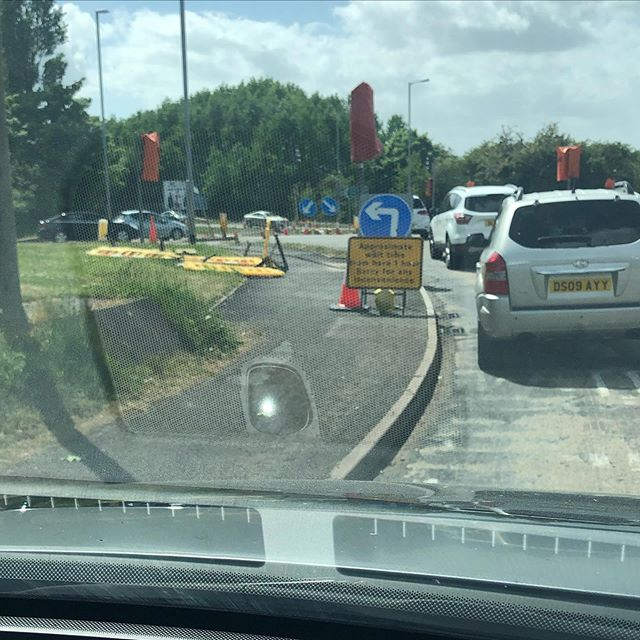car: (469, 183, 640, 365), (435, 175, 524, 269), (43, 209, 134, 245), (114, 204, 190, 244)
sidewalk: (123, 260, 440, 505)
sign: (341, 233, 424, 296), (356, 187, 415, 238)
sky: (90, 1, 640, 109)
vegetation: (10, 38, 635, 209)
